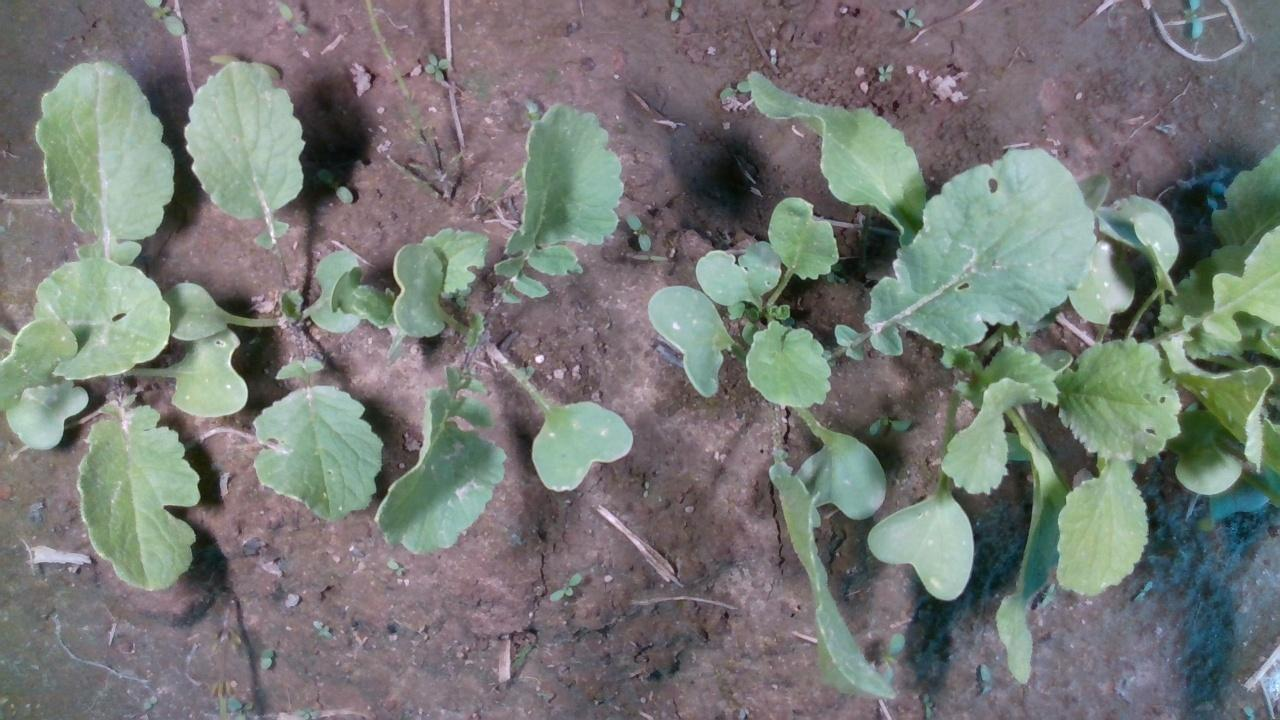weed: (313, 166, 353, 205), (273, 0, 310, 36), (624, 210, 650, 251), (549, 569, 581, 602), (419, 52, 451, 82), (895, 4, 923, 30), (312, 618, 332, 638), (257, 646, 273, 670), (385, 558, 405, 577), (876, 62, 892, 83), (629, 253, 670, 261)
